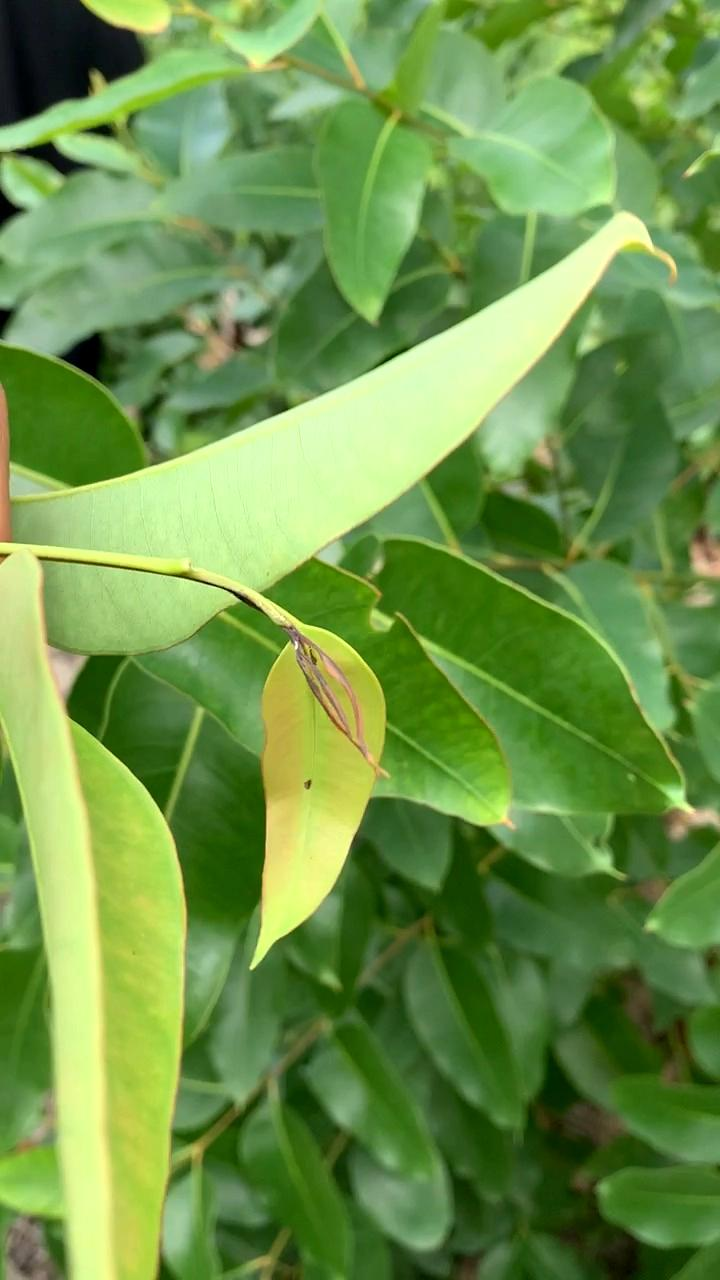Helopeltis-Withered Sprout: (283, 623, 399, 781)
